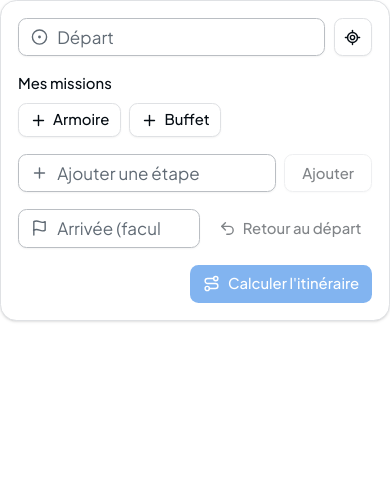
Test: RoutePlanner › adds a run as its pickup then its delivery, and goods on board as a delivery only
What coordinates should you click on to do the following:
click the button "Armoire"
I would click on:
 (70, 120)
Its box is [18,103,121,137].
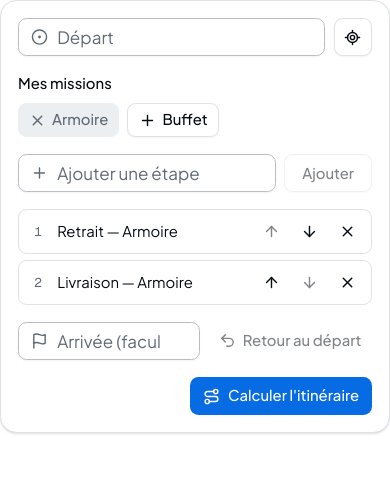
What coordinates should you click on to do the following:
click the button "Buffet"
I would click on:
 (173, 120)
Its box is [128,103,219,137].
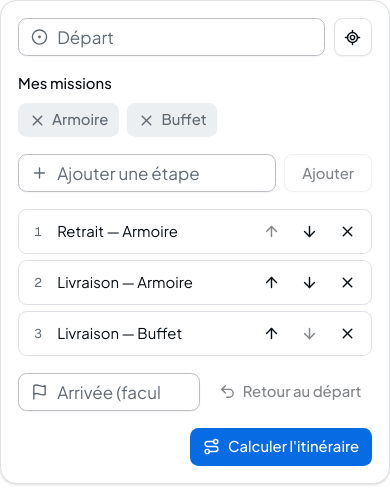
Now the list item "1 Retrait — Armoire" is shown, box [18,209,372,254]
Now the list item "2 Livraison — Armoire" is shown, box [18,260,372,305]
Now the list item "3 Livraison — Buffet" is shown, box [18,311,372,356]
